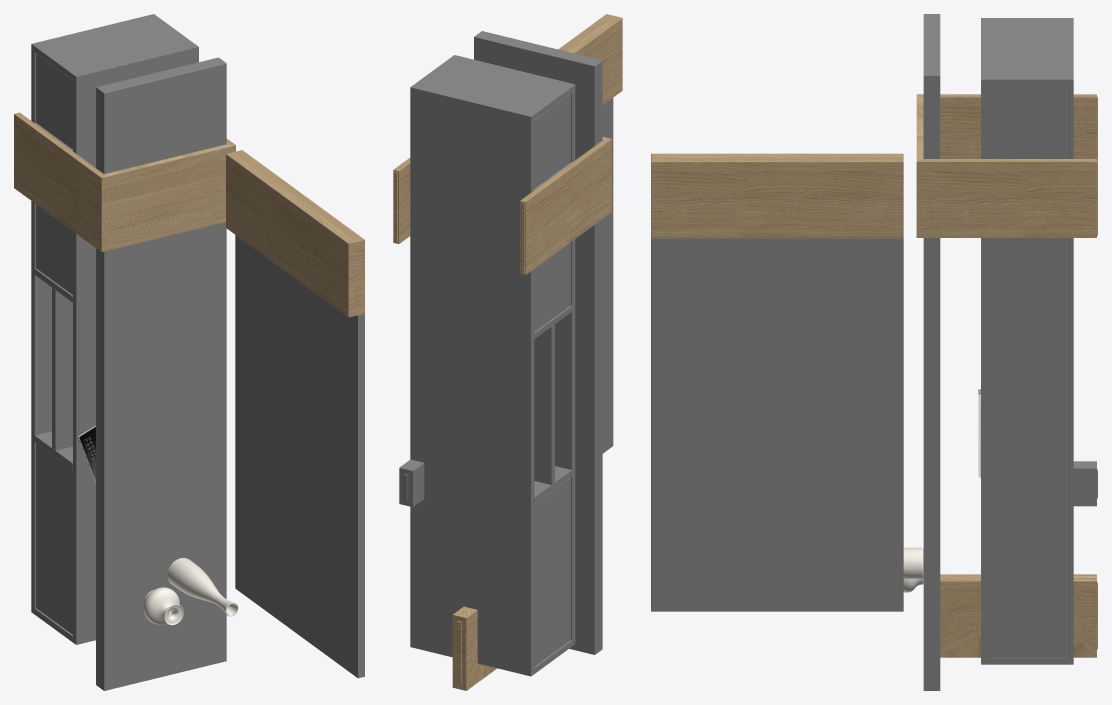
3 views of the same model, side by side, from view 1: azimuth 30°, elevation 25°; view 2: azimuth 150°, elevation 25°; view 3: azimuth 270°, elevation 25° (orthographic). The views are drawn at different scales.
Parts seen in each view (by area): view 1: Grupo mobilfresno - Mijo collection_TV Stand N220723; view 2: Grupo mobilfresno - Mijo collection_TV Stand N220723; view 3: Grupo mobilfresno - Mijo collection_TV Stand N220723.
Part boxes in pixels (left/top/right/bottom): Grupo mobilfresno - Mijo collection_TV Stand N220723: left=14, top=14, right=364, bottom=690; Grupo mobilfresno - Mijo collection_TV Stand N220723: left=393, top=14, right=622, bottom=690; Grupo mobilfresno - Mijo collection_TV Stand N220723: left=651, top=14, right=1097, bottom=690.
Size of the model in its own units: 570 by 2420 by 1591.
Materials: 4 (2 with a texture image).
